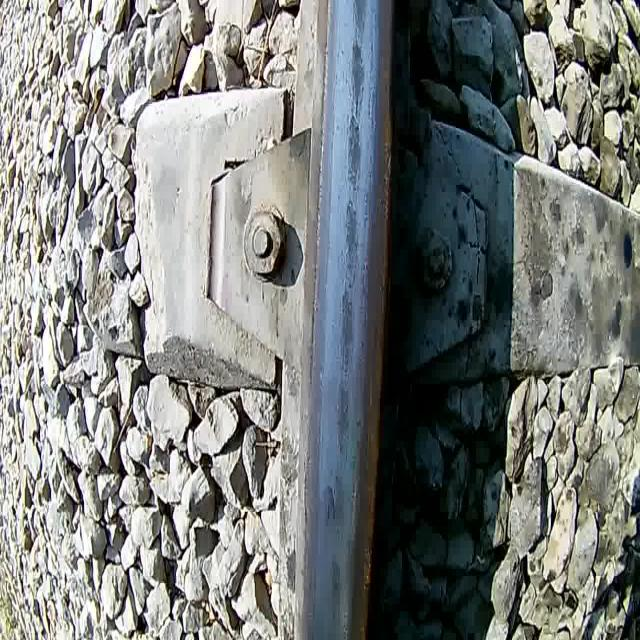Cracks: (337, 336, 356, 376), (324, 482, 338, 528), (350, 160, 363, 208), (350, 228, 360, 290), (368, 78, 377, 138), (338, 274, 348, 319), (341, 435, 352, 474), (369, 36, 377, 80), (354, 85, 361, 122)
Squats: (319, 470, 349, 550), (336, 287, 358, 380), (340, 195, 361, 290), (332, 378, 352, 475), (342, 112, 365, 195), (347, 38, 368, 118), (325, 549, 345, 632), (346, 0, 369, 50)
